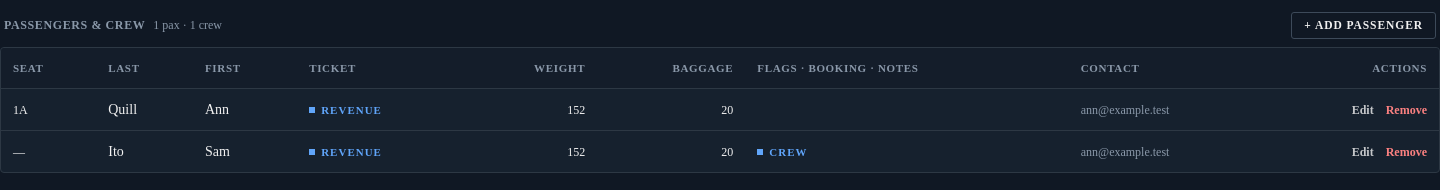
it: Passengers & Crew (#62) › asks before removing, naming who goes
Step 1. Click the button "Remove" in the row of "1A" → (1406, 110), box x1=1386 y1=102 x2=1427 y2=118
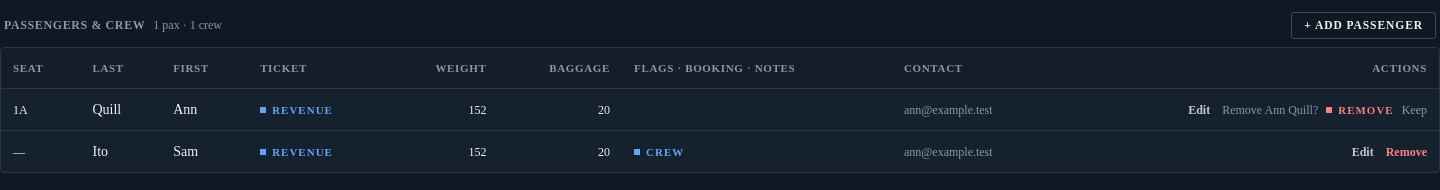
Check: the text "Remove Ann Quill?" is shown, box x1=1222 y1=102 x2=1318 y2=118
Step 2. Click the button "Keep" → (1414, 110), box x1=1402 y1=102 x2=1427 y2=118
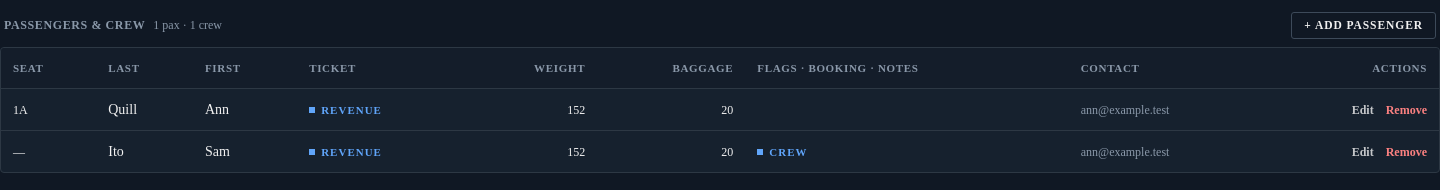
Check: the text "Remove Ann Quill?" is gone
